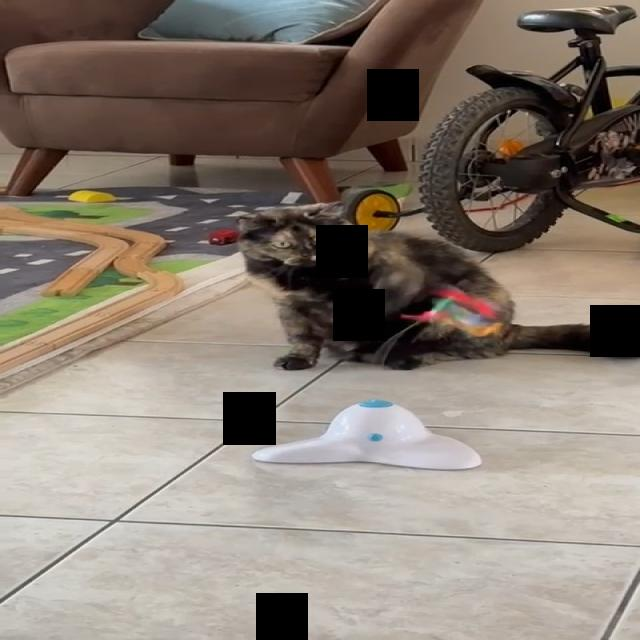authorized: (233, 200, 639, 371)
